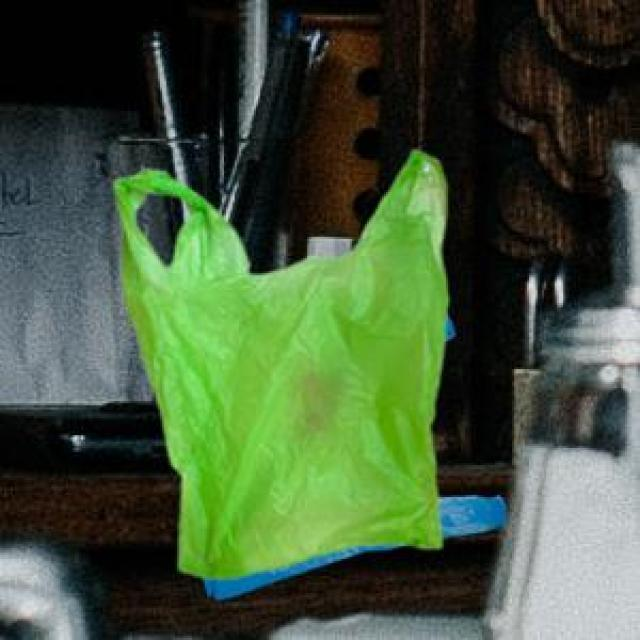waste: (114, 151, 505, 599)
